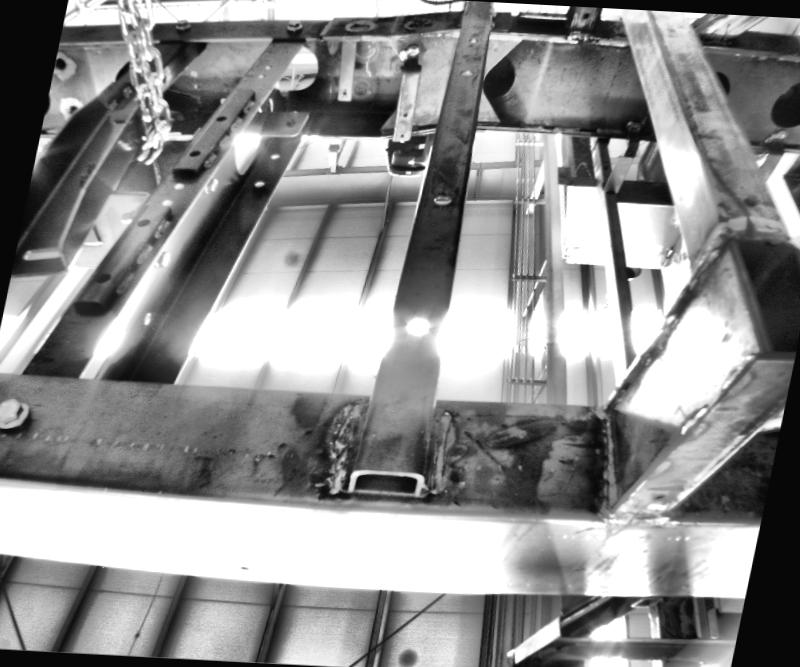bolt: (0, 397, 35, 430), (200, 173, 223, 194), (151, 250, 174, 270), (169, 17, 194, 34), (282, 18, 306, 34), (406, 44, 422, 56)
bracket: (386, 43, 424, 144), (252, 103, 314, 139), (330, 36, 362, 102), (598, 148, 640, 196)
hole: (248, 43, 326, 90), (400, 310, 434, 340), (428, 188, 456, 206), (740, 194, 761, 208), (140, 308, 155, 324), (54, 55, 70, 69), (94, 271, 111, 283), (650, 492, 666, 504), (213, 113, 228, 122), (134, 217, 149, 226), (460, 68, 476, 76), (282, 118, 296, 127), (160, 198, 174, 205), (188, 148, 200, 156), (173, 182, 184, 190), (618, 158, 628, 166), (237, 564, 250, 570), (270, 152, 280, 158), (254, 180, 264, 186), (469, 36, 478, 42), (342, 89, 349, 95), (266, 63, 274, 68), (258, 72, 266, 77), (584, 12, 590, 17), (401, 112, 408, 116), (399, 134, 406, 136)
welding: (418, 404, 468, 493), (326, 391, 354, 492)
